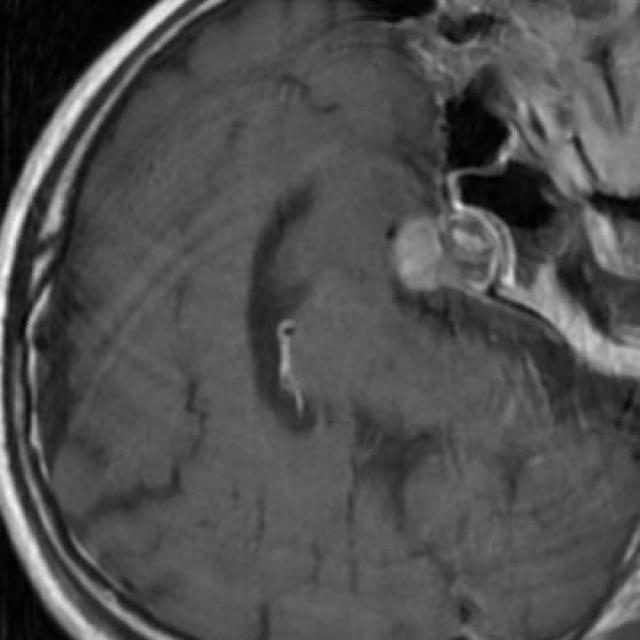pituitary: (392, 207, 510, 294)
